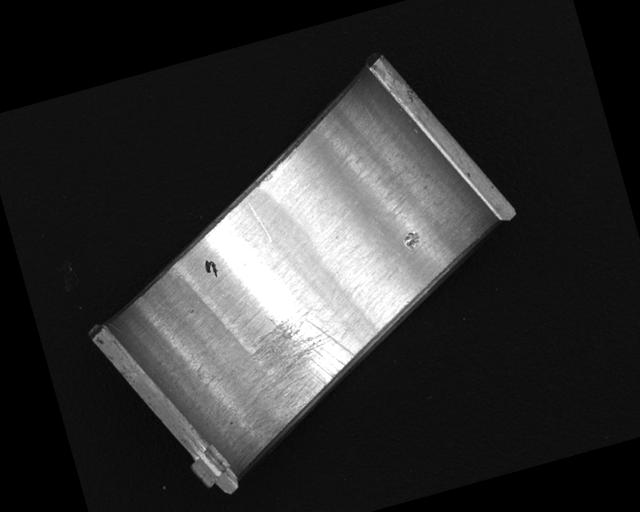blot: (201, 256, 219, 280)
bruise: (401, 229, 423, 253)
nick: (246, 196, 273, 246)
scratch: (229, 297, 370, 446)
